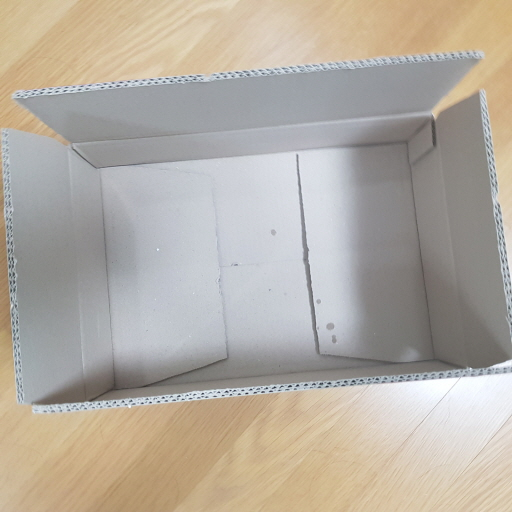Paper_0: (4, 47, 512, 417)
